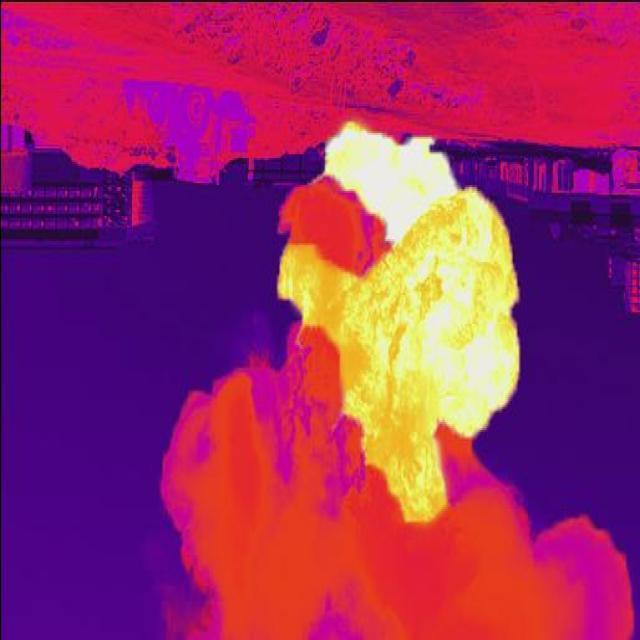fire: (280, 122, 523, 527)
